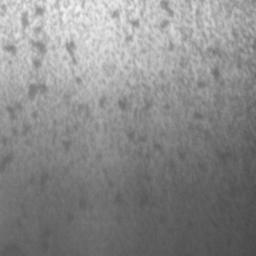Pitted surface: (0, 0, 256, 154), (127, 127, 163, 159), (138, 174, 154, 206), (0, 0, 25, 16), (170, 150, 186, 174), (216, 147, 236, 165), (30, 172, 49, 190), (0, 153, 13, 171), (115, 193, 123, 204), (80, 199, 86, 208)
